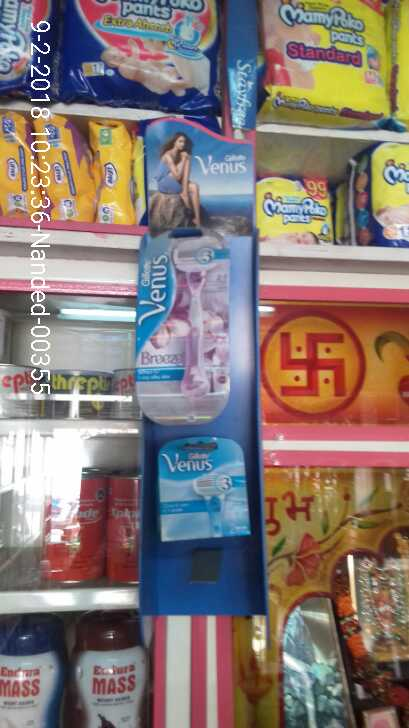venus: (131, 224, 231, 426), (162, 425, 250, 539)
